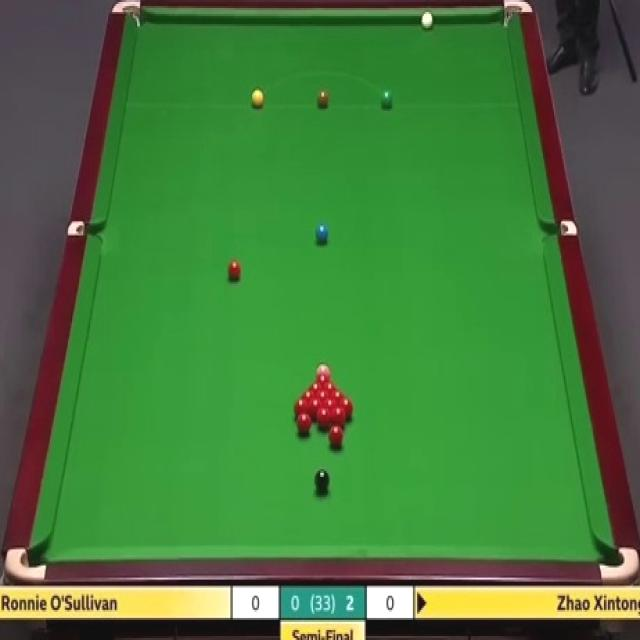black-ball: (315, 469, 329, 491)
blue-ball: (315, 222, 330, 242)
brown-ball: (316, 87, 330, 110)
green-ball: (379, 87, 393, 109)
pink-ball: (316, 363, 333, 376)
red-ball: (226, 260, 242, 282), (329, 425, 343, 447), (333, 406, 346, 429), (298, 413, 312, 434), (332, 389, 345, 411), (317, 408, 330, 428), (340, 396, 353, 416), (309, 399, 322, 418), (294, 400, 308, 417), (324, 400, 336, 419), (301, 391, 316, 399), (316, 392, 332, 398)
white-ball: (421, 12, 434, 30)
yellow-ball: (251, 89, 264, 109)
